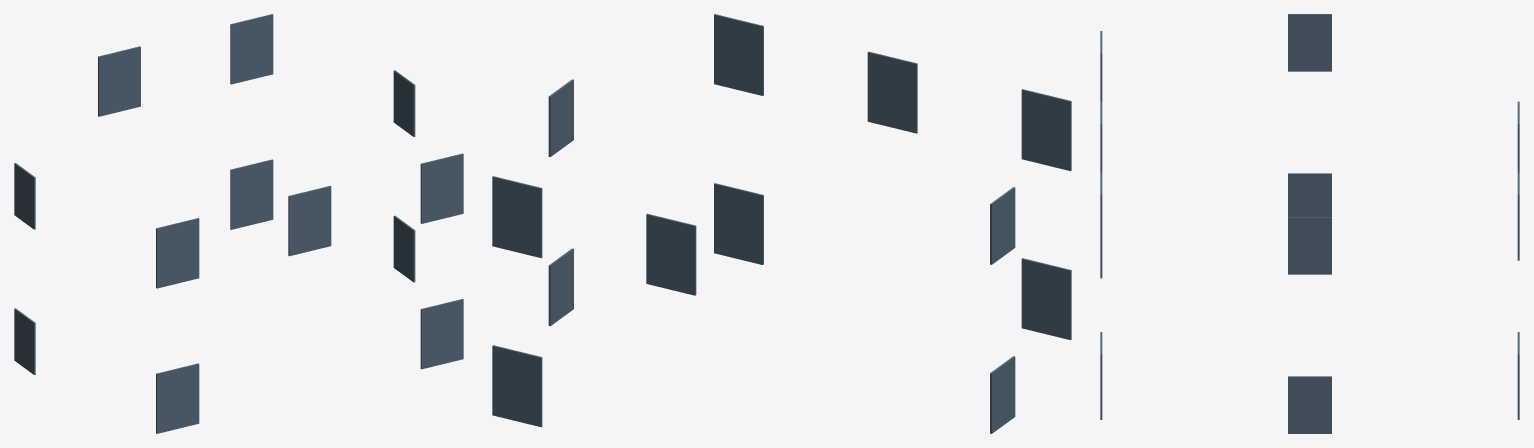
The model's file is House_Stone2_Glass.fbx.
3 views of the same model, side by side, from view 1: azimuth 30°, elevation 25°; view 2: azimuth 150°, elevation 25°; view 3: azimuth 270°, elevation 25° (orthographic). The views are drawn at different scales.
Visible parts, largest first — view 1: House_Stone2_Glass; view 2: House_Stone2_Glass; view 3: House_Stone2_Glass.
Part boxes in pixels (<box>): House_Stone2_Glass: <box>14,14,463,433</box>; House_Stone2_Glass: <box>492,14,1071,433</box>; House_Stone2_Glass: <box>1100,14,1519,433</box>.
Size of the model in its own units: 7.68 by 6.68 by 3.95.
